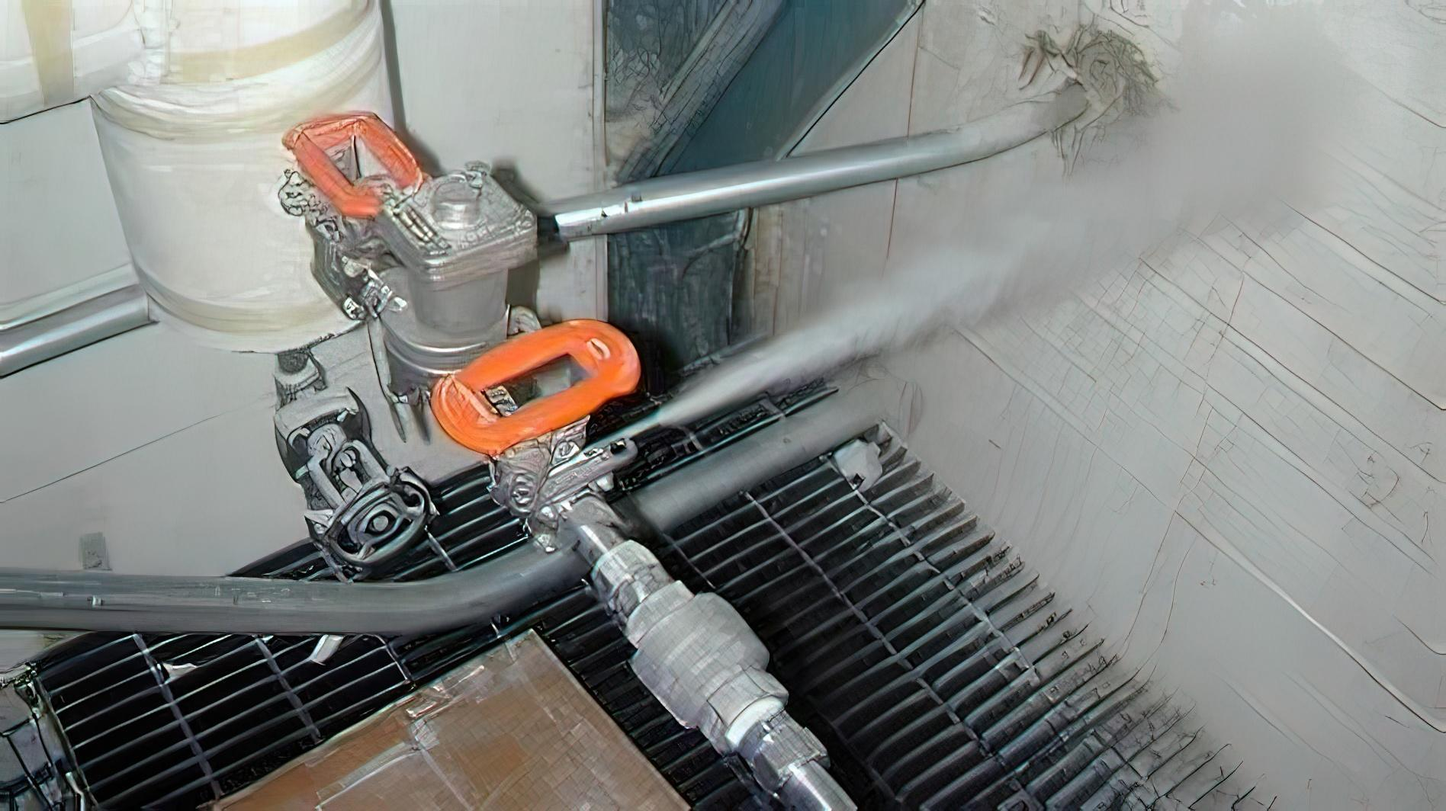pipe burst: (585, 87, 1264, 467)
